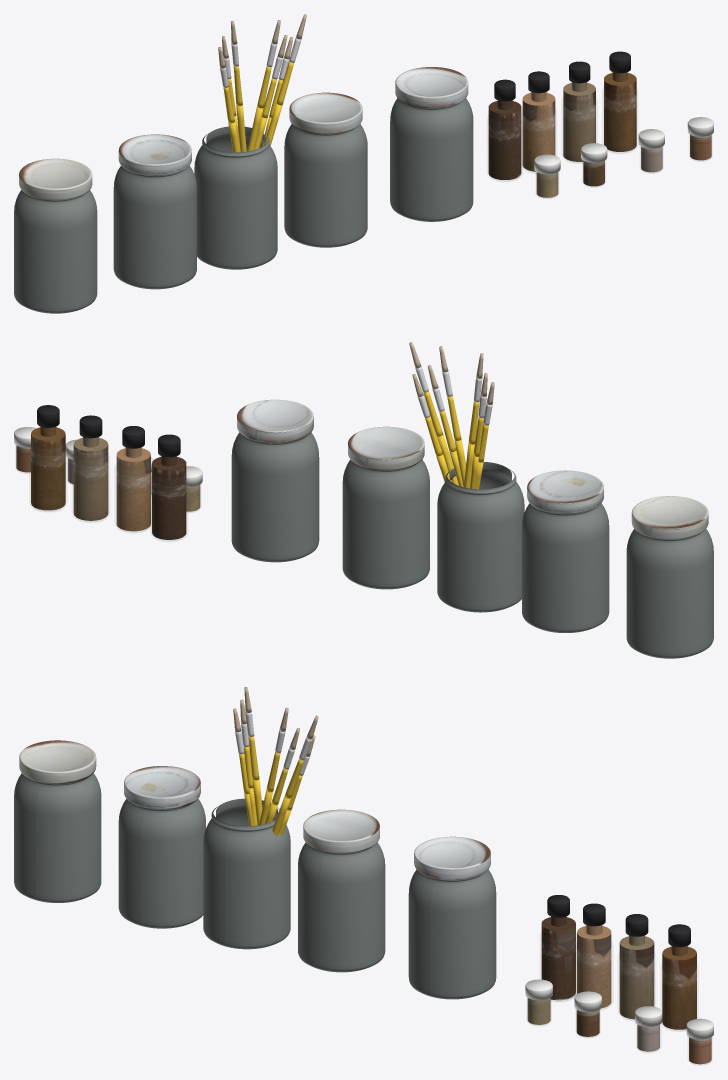
File: pigmentos_23_web.glb
3 renders of one model, top to bottom at view 1: azimuth 30°, elevation 25°; view 2: azimuth 150°, elevation 25°; view 3: azimuth 330°, elevation 25°, orthographic. The views are drawn at different scales.
Visible parts, largest first — view 1: Vidro_Pote_Pinceis, Vidro_Pote_Pigmento_Vermelho, Vidro_Pote_Pigmento_Rosado, Vidro_Pote_Granulado_Amarelo, Vidro_Pote_Terra_Escura, Pinceis, Frasco_Areia_Marrom, Frasco_Areia_Ocre, Frasco_Areia_Cinza, Frasco_Areia_Pessego, Tampa_Pote_Pigmento_Rosado, Tampa_Pote_Pigmento_Vermelho (+6 smaller); view 2: Vidro_Pote_Pinceis, Vidro_Pote_Granulado_Amarelo, Vidro_Pote_Terra_Escura, Vidro_Pote_Pigmento_Rosado, Vidro_Pote_Pigmento_Vermelho, Pinceis, Frasco_Areia_Cinza, Frasco_Areia_Ocre, Frasco_Areia_Pessego, Frasco_Areia_Marrom, Tampa_Pote_Terra_Escura, Tampa_Pote_Pigmento_Rosado (+4 smaller); view 3: Vidro_Pote_Pinceis, Vidro_Pote_Granulado_Amarelo, Vidro_Pote_Pigmento_Rosado, Vidro_Pote_Terra_Escura, Vidro_Pote_Pigmento_Vermelho, Pinceis, Frasco_Areia_Ocre, Frasco_Areia_Cinza, Frasco_Areia_Marrom, Frasco_Areia_Pessego, Tampa_Pote_Terra_Escura, Tampa_Pote_Granulado_Amarelo (+6 smaller).
Part boxes in pixels (x1,y1,x2,y2): Vidro_Pote_Pinceis: (194, 126, 277, 269); Vidro_Pote_Pigmento_Vermelho: (113, 165, 196, 289); Vidro_Pote_Pigmento_Rosado: (284, 124, 367, 247); Vidro_Pote_Granulado_Amarelo: (390, 98, 473, 221); Vidro_Pote_Terra_Escura: (14, 190, 97, 313); Pinceis: (218, 14, 306, 152); Frasco_Areia_Marrom: (488, 79, 521, 181); Frasco_Areia_Ocre: (604, 51, 636, 153); Frasco_Areia_Cinza: (563, 61, 595, 162); Frasco_Areia_Pessego: (522, 71, 555, 172); Tampa_Pote_Pigmento_Rosado: (289, 92, 362, 134); Tampa_Pote_Pigmento_Vermelho: (118, 134, 191, 175); Vidro_Pote_Pinceis: (437, 462, 524, 612); Vidro_Pote_Granulado_Amarelo: (231, 432, 319, 562); Vidro_Pote_Terra_Escura: (626, 529, 713, 658); Vidro_Pote_Pigmento_Rosado: (342, 459, 429, 589); Vidro_Pote_Pigmento_Vermelho: (522, 503, 609, 632); Pinceis: (409, 342, 494, 489); Frasco_Areia_Cinza: (73, 415, 108, 521); Frasco_Areia_Ocre: (31, 405, 65, 511); Frasco_Areia_Pessego: (116, 426, 150, 532); Frasco_Areia_Marrom: (152, 434, 186, 541); Tampa_Pote_Terra_Escura: (631, 496, 708, 539); Tampa_Pote_Pigmento_Rosado: (348, 426, 424, 470); Vidro_Pote_Pinceis: (203, 798, 290, 949); Vidro_Pote_Granulado_Amarelo: (408, 869, 496, 999); Vidro_Pote_Pigmento_Rosado: (298, 842, 385, 972); Vidro_Pote_Terra_Escura: (14, 773, 101, 902); Vidro_Pote_Pigmento_Vermelho: (118, 799, 205, 928); Pinceis: (233, 687, 318, 835); Frasco_Areia_Ocre: (662, 924, 696, 1030); Frasco_Areia_Cinza: (619, 914, 654, 1020); Frasco_Areia_Marrom: (541, 895, 575, 1001); Frasco_Areia_Pessego: (577, 903, 611, 1009); Tampa_Pote_Terra_Escura: (19, 740, 96, 783); Tampa_Pote_Granulado_Amarelo: (414, 836, 490, 880).
Size of the model in its own units: 0.7676 by 0.2524 by 0.0909.
Materials: 23 (16 with a texture image).
